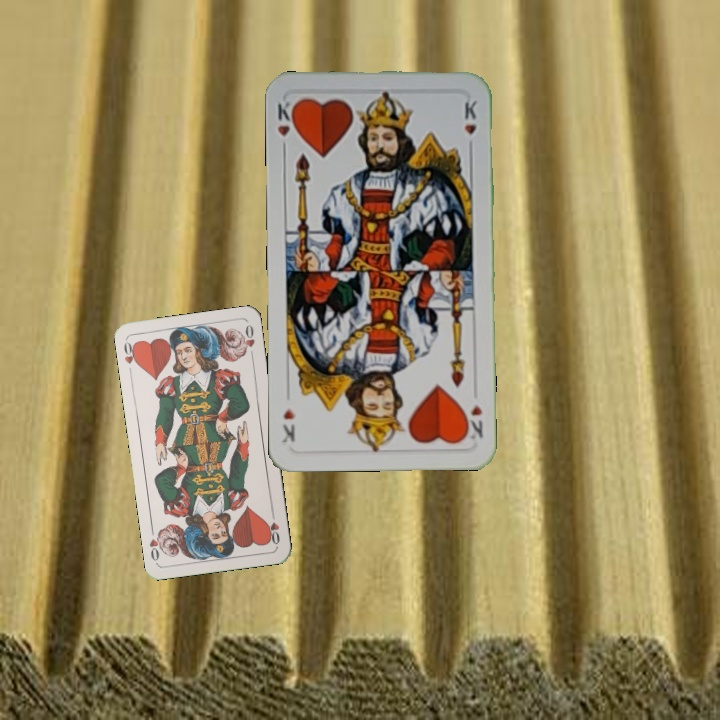HK: (273, 96, 299, 155), (461, 401, 485, 444)
HO: (120, 337, 141, 377), (264, 507, 283, 547)
